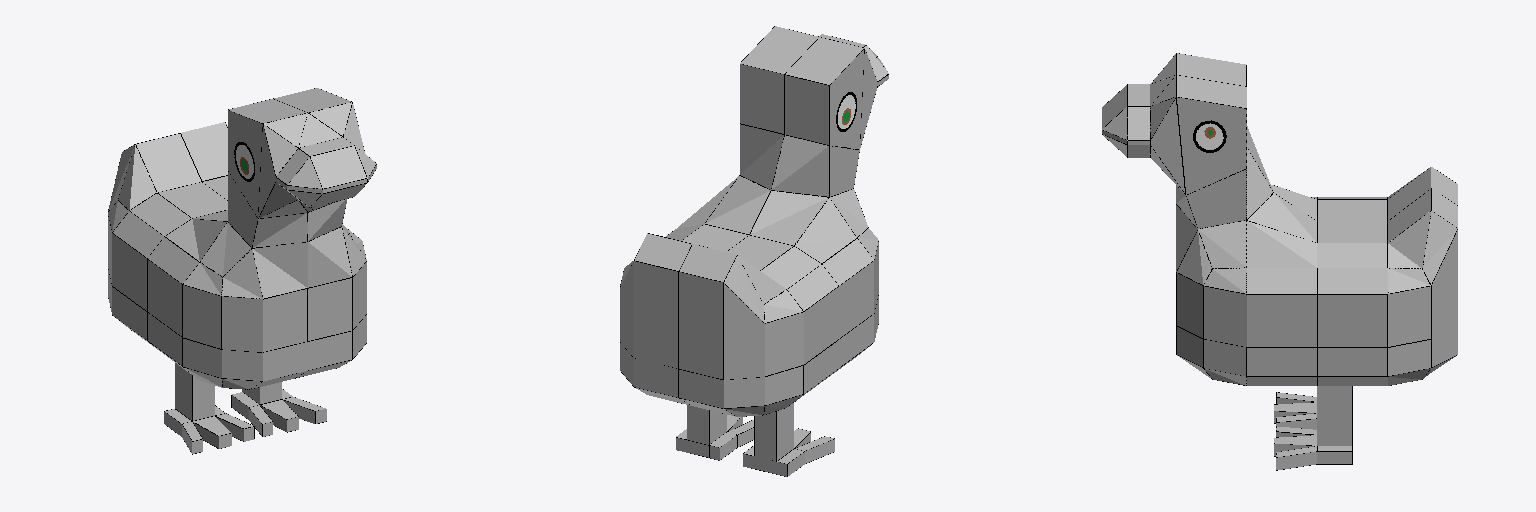
3 renders of one model, left to right at view 1: azimuth 30°, elevation 25°; view 2: azimuth 150°, elevation 25°; view 3: azimuth 270°, elevation 25°, orthographic.
Parts seen in each view (by area): view 1: chicken_Cube; view 2: chicken_Cube; view 3: chicken_Cube.
Part boxes in pixels (bbox=[...]): chicken_Cube: bbox=[108, 88, 376, 454]; chicken_Cube: bbox=[620, 26, 888, 476]; chicken_Cube: bbox=[1102, 53, 1457, 470].
Bounding box in the file's own units: 0.8449 × 1.63 × 1.45.
Materials: 1 (1 with a texture image).